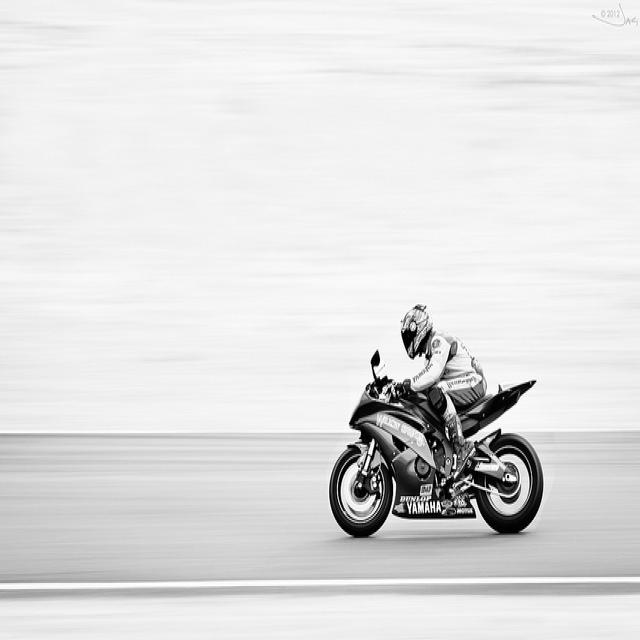motor: (328, 350, 543, 537)
